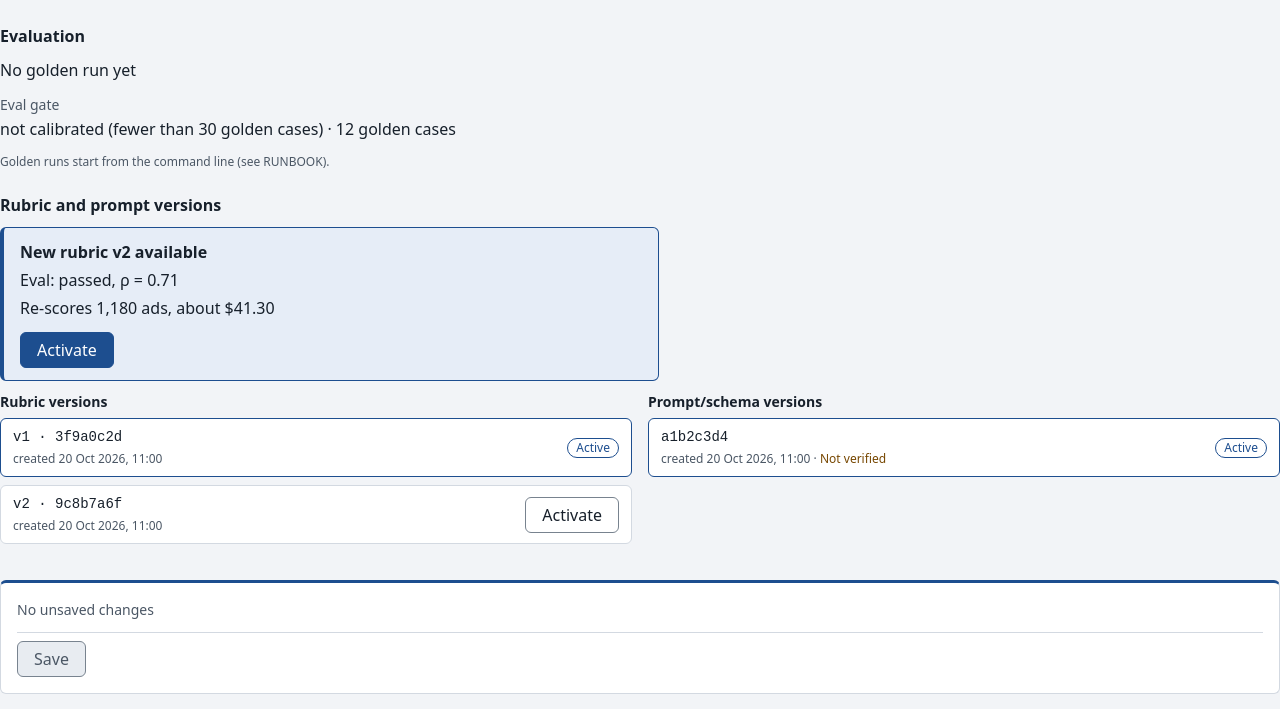
Test case: VersionsPanel › an eval_gate_failed answer offers the tick
Later steps or results of the test are not shown.
(page scrolled)
Click the button with aria-label "Activate rubric v2" at (67, 350), box [20,332,114,368]
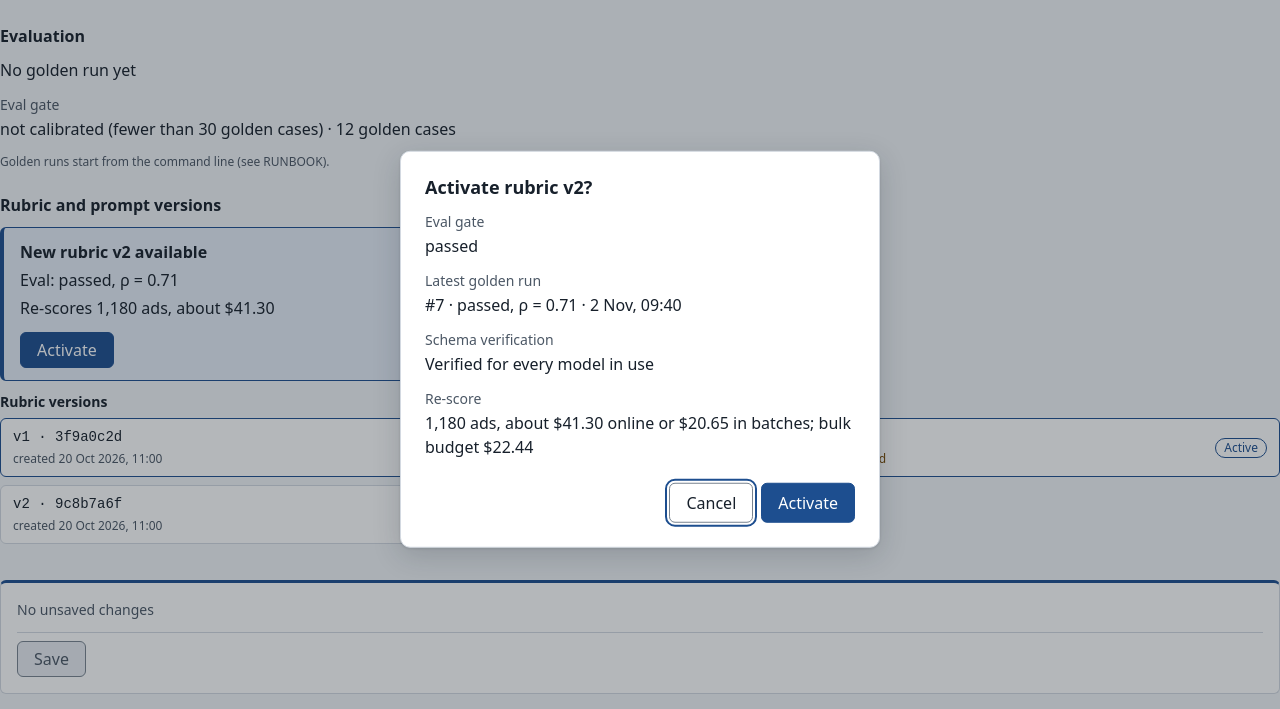
Check: the button "Activate" is enabled
Click the button "Activate" at (808, 502), box [761,482,855,522]
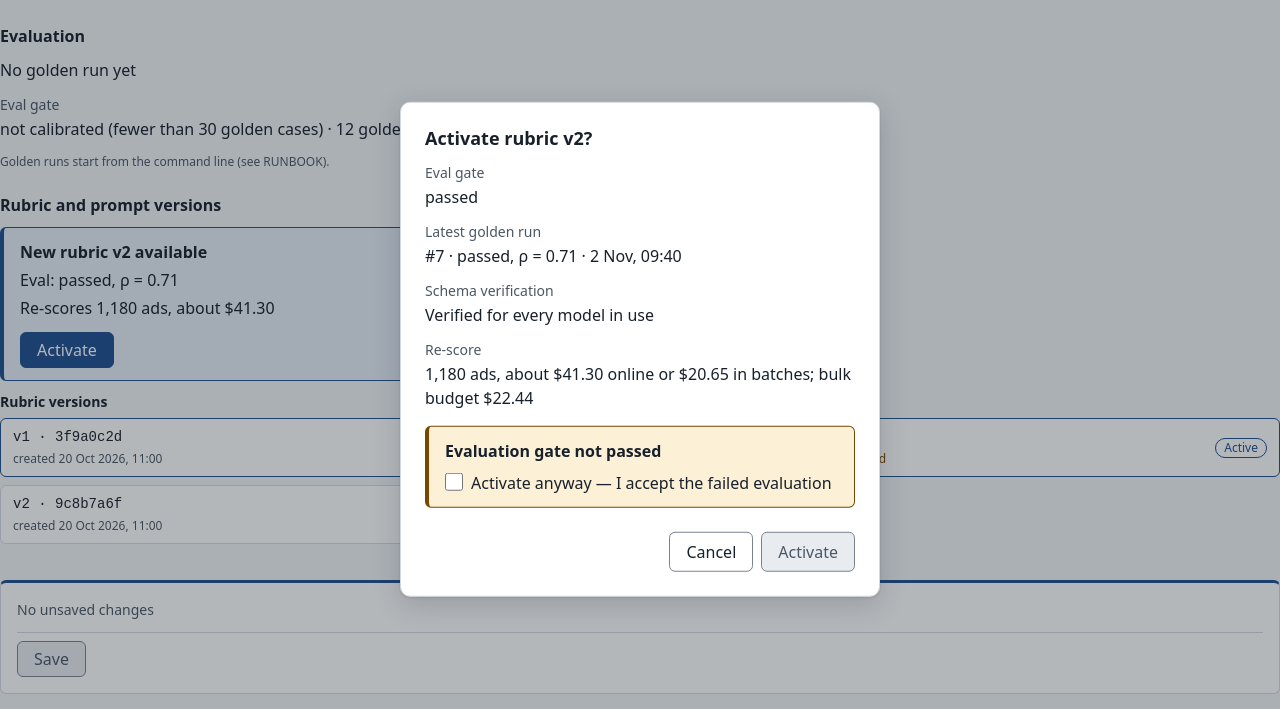
Check: the button "Activate" is disabled, box [761,531,855,571]
